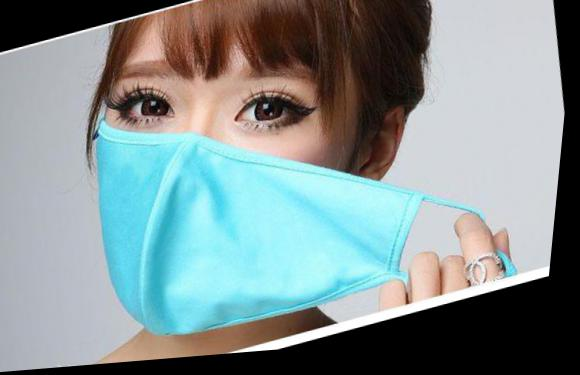WRONG: (62, 1, 415, 366)
